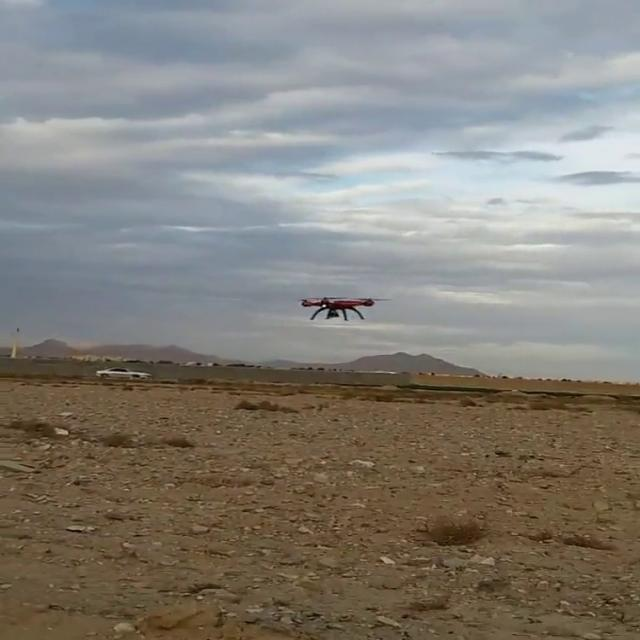drone: (294, 292, 392, 323)
